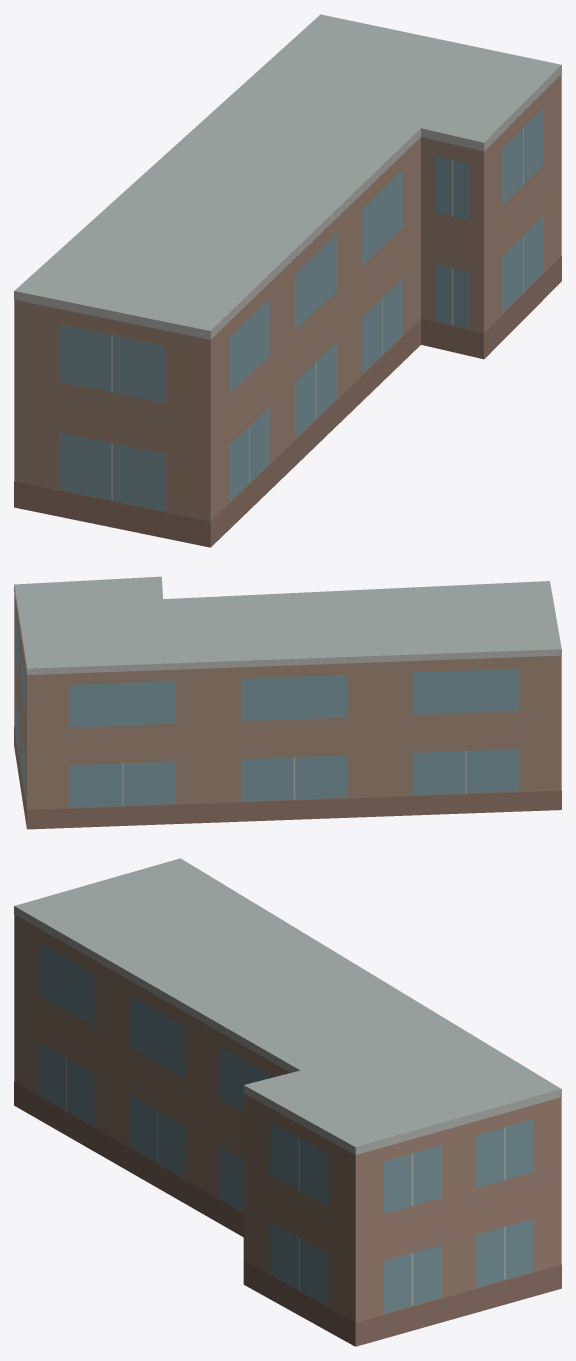
File: survey-upis-32763302.glb
3 views of the same model, one above another, from view 1: azimuth 30°, elevation 25°; view 2: azimuth 150°, elevation 25°; view 3: azimuth 270°, elevation 25° (orthographic). The views are drawn at different scales.
Visible parts, largest first — view 1: survey-upis-32763302.tmp; view 2: survey-upis-32763302.tmp; view 3: survey-upis-32763302.tmp.
Part boxes in pixels (x1,y1,x2,y2): survey-upis-32763302.tmp: [14, 14, 561, 547]; survey-upis-32763302.tmp: [14, 576, 561, 829]; survey-upis-32763302.tmp: [14, 858, 561, 1346].
Bounding box in the file's own units: 18.96 × 6.1 × 15.19.
